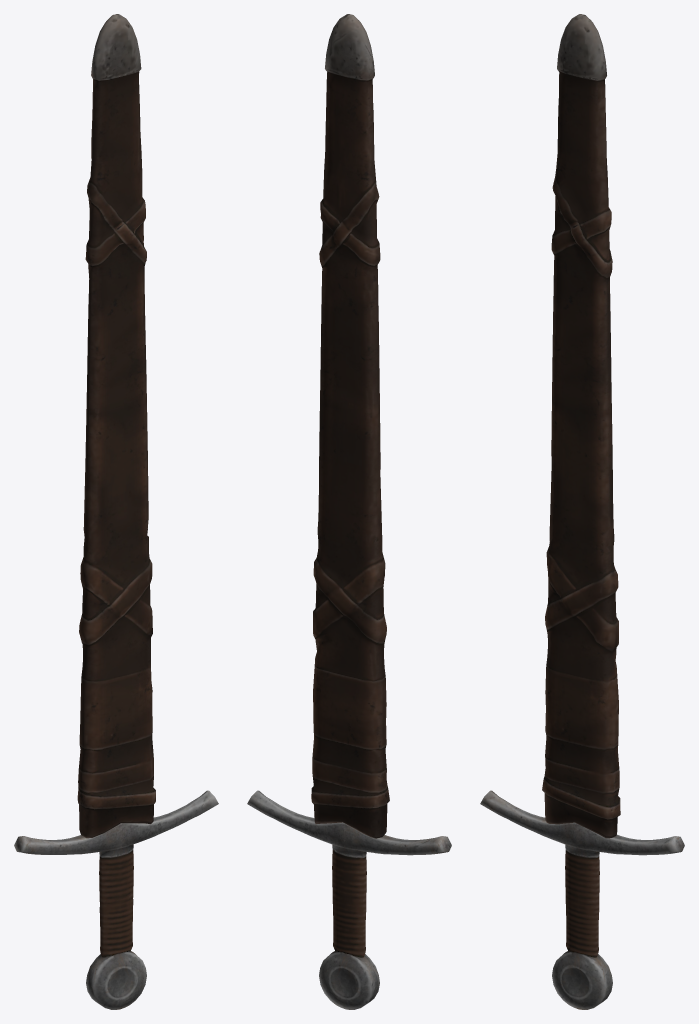
File: Sword_Case.fbx
The picture shows the model from 3 angles, left to right: view 1: azimuth 30°, elevation 25°; view 2: azimuth 150°, elevation 25°; view 3: azimuth 330°, elevation 25°; orthographic projection.
Visible parts, largest first — view 1: case_a_001, sword_a_001; view 2: case_a_001, sword_a_001; view 3: case_a_001, sword_a_001.
Boxes of the visible parts, bbox=[...] form: case_a_001: bbox=[77, 14, 155, 838]; sword_a_001: bbox=[14, 790, 218, 1009]; case_a_001: bbox=[311, 14, 389, 838]; sword_a_001: bbox=[247, 790, 451, 1009]; case_a_001: bbox=[542, 14, 620, 838]; sword_a_001: bbox=[480, 790, 684, 1009].
Size of the model in its own units: 18.86 by 2.74 by 89.85.
Materials: 2 (2 with a texture image).
